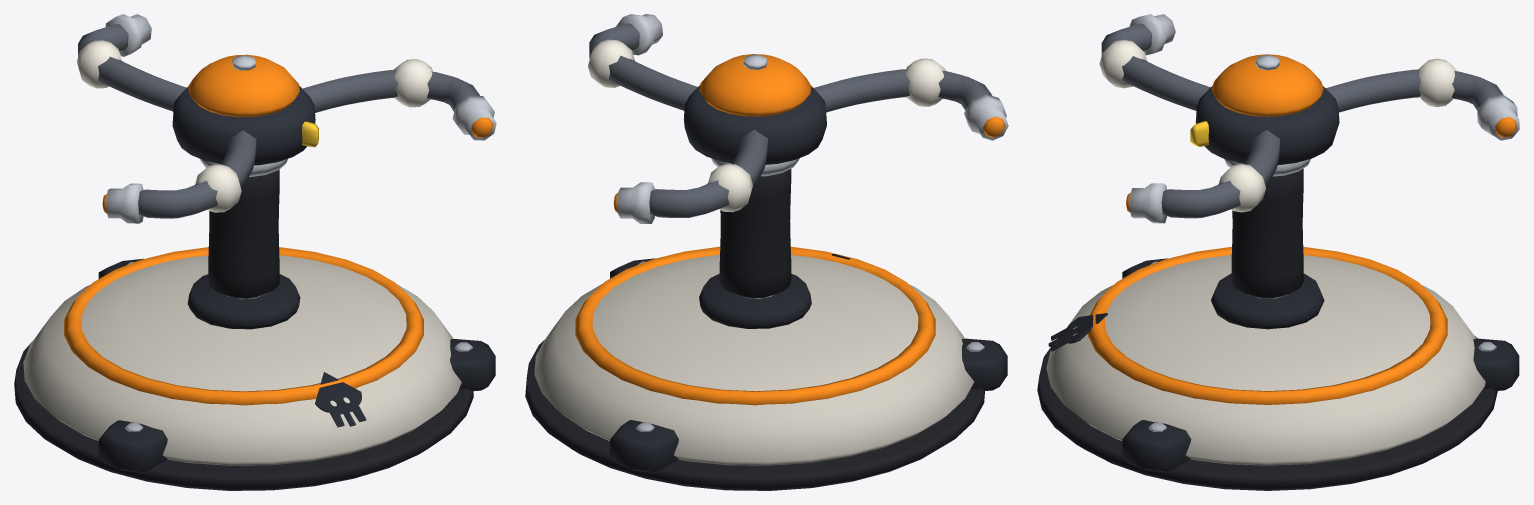
File: sub_sprinkler.glb
3 renders of one model, left to right at view 1: azimuth 30°, elevation 25°; view 2: azimuth 150°, elevation 25°; view 3: azimuth 270°, elevation 25°, orthographic.
Parts seen in each view (by area): view 1: body, spin, ink, spinInk; view 2: body, spin, ink, spinInk; view 3: body, spin, ink, spinInk.
Part boxes in pixels (x1,y1,x2,y2): body: (14, 159, 495, 490); spin: (76, 14, 496, 223); ink: (64, 247, 423, 405); spinInk: (102, 54, 493, 213); body: (525, 158, 1007, 490); spin: (588, 14, 1008, 223); ink: (575, 246, 935, 405); spinInk: (613, 54, 1005, 212); body: (1037, 159, 1519, 490); spin: (1099, 14, 1519, 223); ink: (1087, 247, 1447, 404); spinInk: (1126, 54, 1516, 212).
Size of the model in its own units: 0.1604 by 0.1309 by 0.1679.
